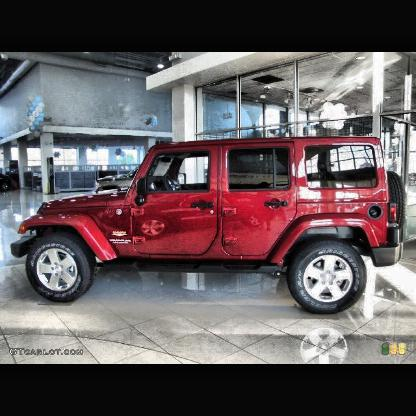Jeep Wrangler SUV 2012: (9, 134, 409, 316)
